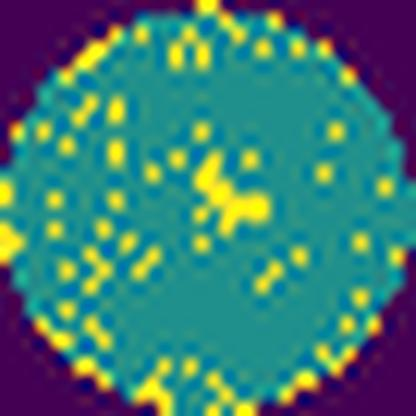Center: (184, 154, 278, 240)
